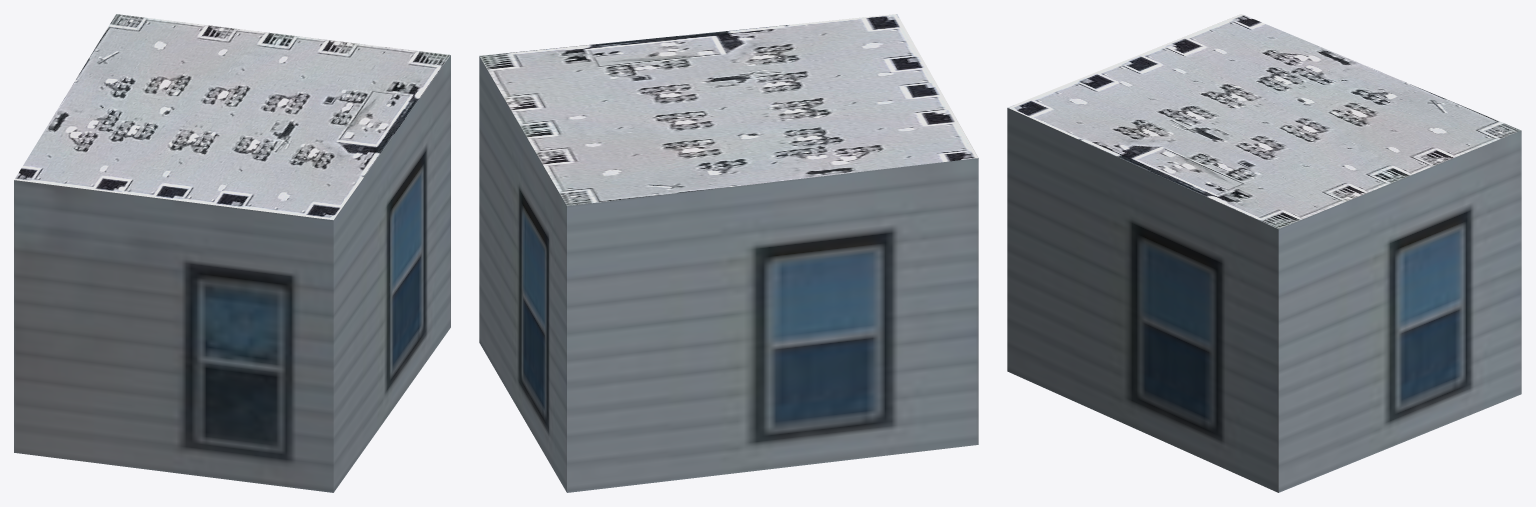
Rendered from ResTex__3109.fbx.
The picture shows the model from 3 angles, left to right: view 1: azimuth 30°, elevation 25°; view 2: azimuth 150°, elevation 25°; view 3: azimuth 270°, elevation 25°; orthographic projection. The views are drawn at different scales.
Parts seen in each view (by area): view 1: CityEngineMaterial_18_m, CityEngineMaterial_m; view 2: CityEngineMaterial_18_m, CityEngineMaterial_m; view 3: CityEngineMaterial_18_m, CityEngineMaterial_m.
Part boxes in pixels (box(x1,y1,x2,y2)): CityEngineMaterial_18_m: box(14, 55, 450, 492); CityEngineMaterial_m: box(14, 14, 450, 220); CityEngineMaterial_18_m: box(479, 56, 978, 492); CityEngineMaterial_m: box(479, 14, 978, 205); CityEngineMaterial_18_m: box(1007, 108, 1521, 492); CityEngineMaterial_m: box(1008, 14, 1521, 228).
Size of the model in its own units: 5.25 by 3 by 5.3.
2 materials, 2 textured.
